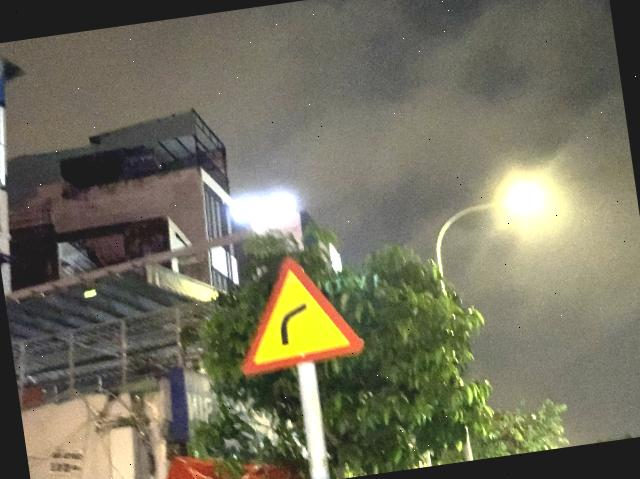cho-ngoat-nguy-hiem-ben-trai: (228, 246, 366, 376)
